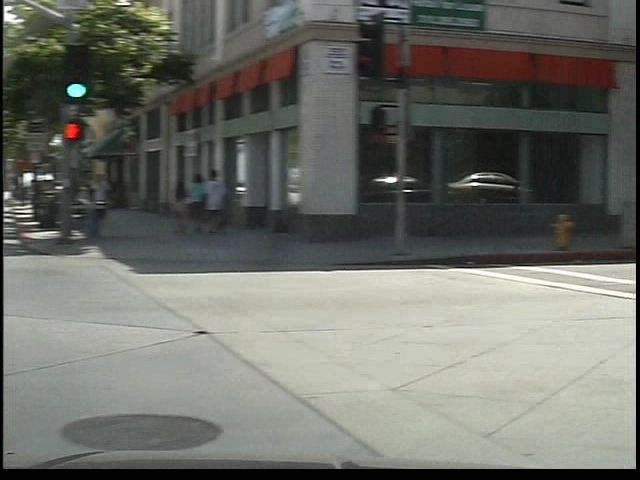person: (102, 168, 142, 223)
